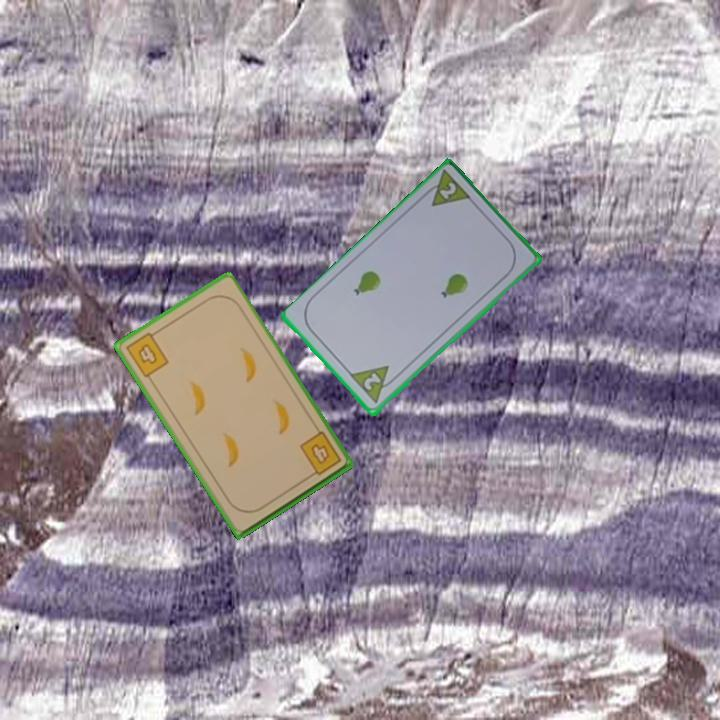2p: (418, 168, 475, 210), (360, 370, 384, 394)
4b: (122, 327, 171, 381), (296, 428, 344, 481)
